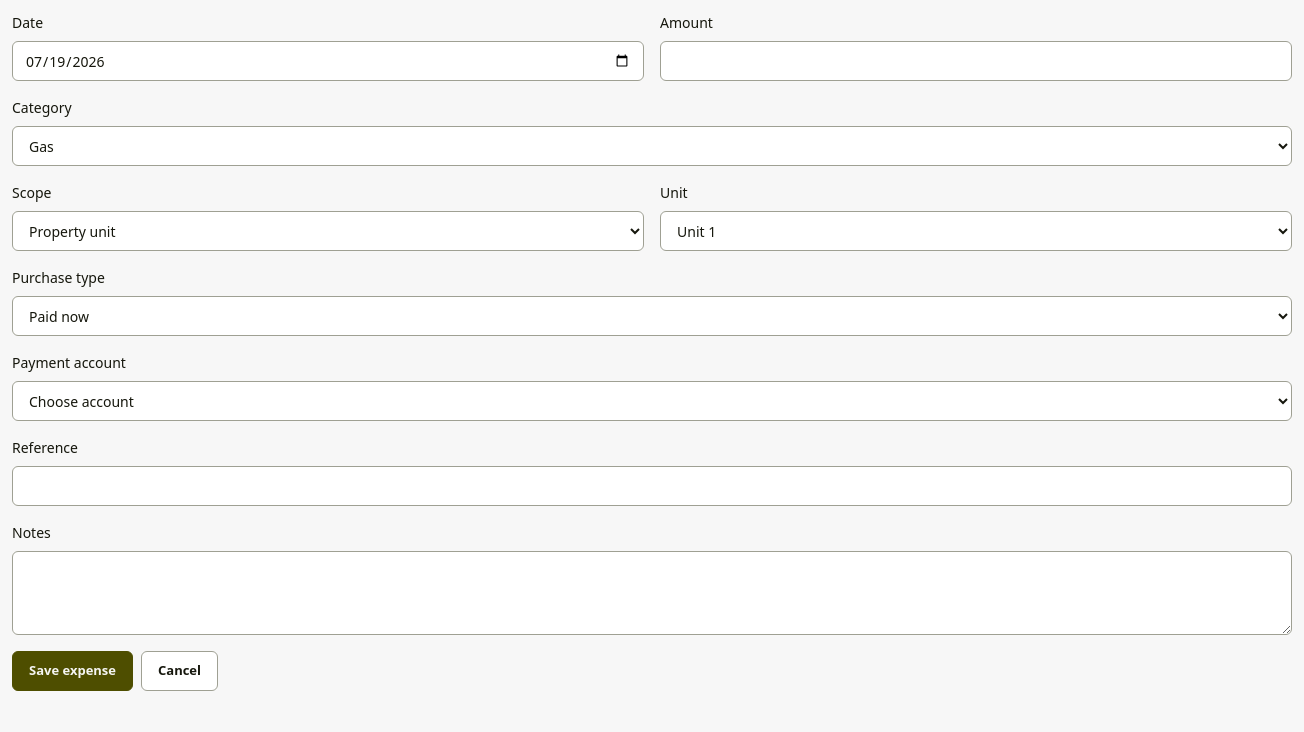
Test: fast expense entry › shows contextual credit fields and every approved category
Select "Supplier credit" in the dropdown labelled "Purchase type" at (652, 316), box x1=12 y1=296 x2=1292 y2=336
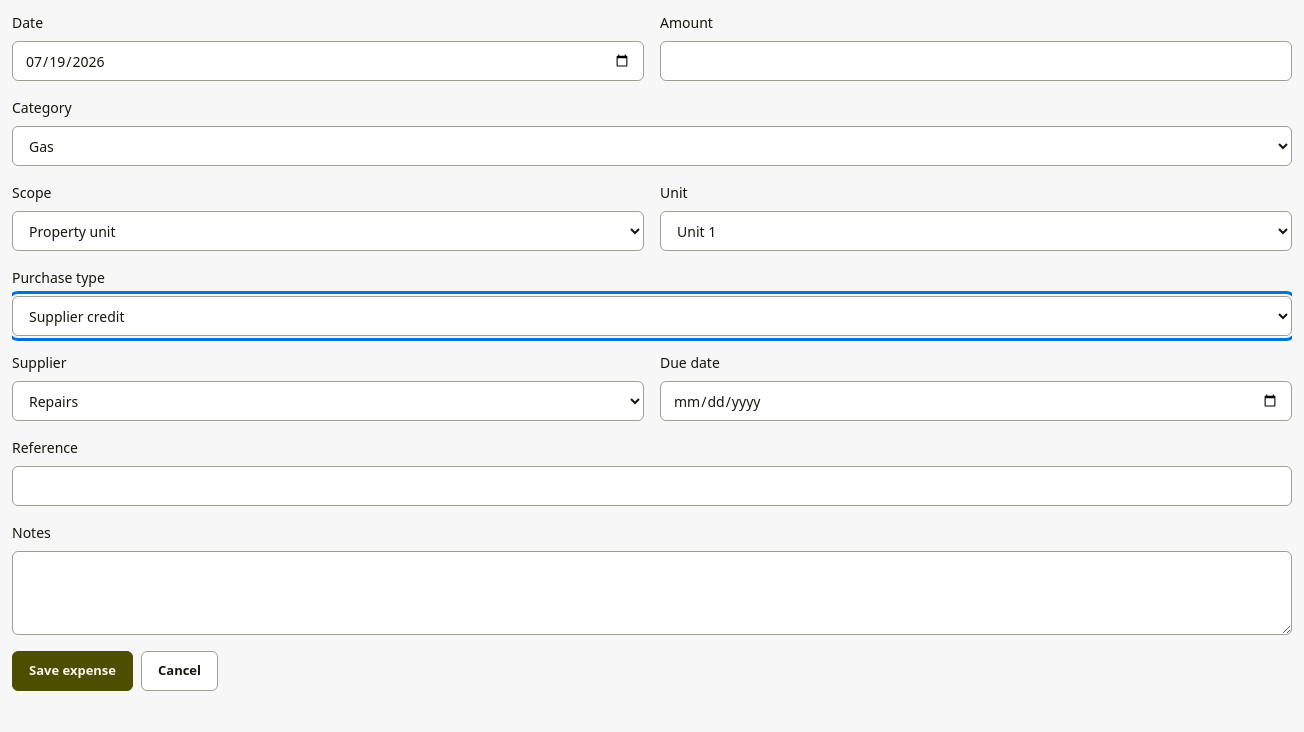
Expected: the dropdown labelled "Supplier" is shown, x1=12 y1=381 x2=644 y2=421
Expected: the date field labelled "Due date" is shown, x1=660 y1=381 x2=1292 y2=421
